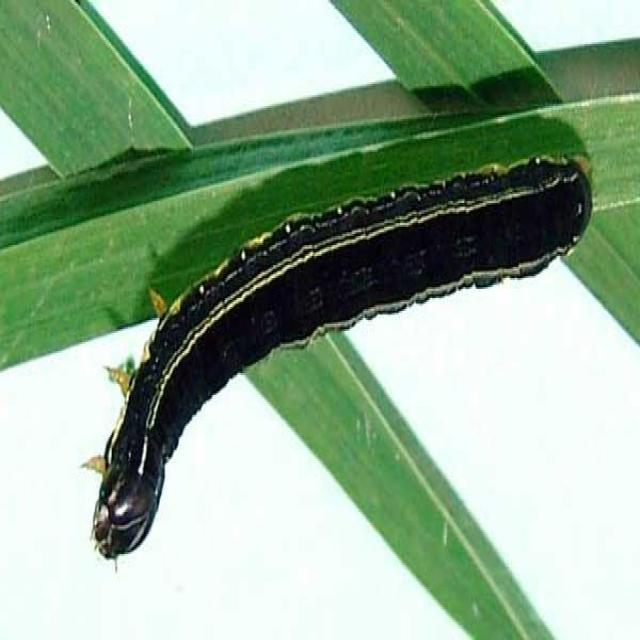army worm: (92, 139, 593, 572)
